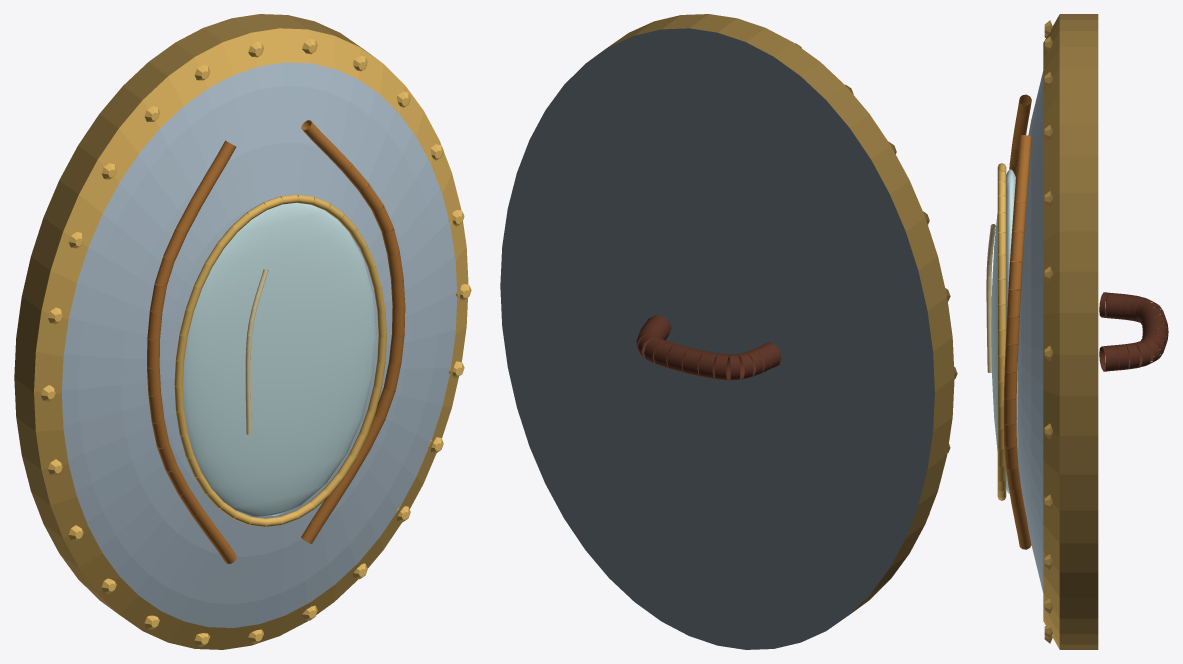
The model's file is Mirror.obj.
3 renders of one model, left to right at view 1: azimuth 30°, elevation 25°; view 2: azimuth 150°, elevation 25°; view 3: azimuth 270°, elevation 25°, orthographic.
Visible parts, largest first — view 1: Mirror; view 2: Mirror; view 3: Mirror.
Part boxes in pixels (x1=…): Mirror: x1=14, y1=14, x2=471, y2=649; Mirror: x1=500, y1=14, x2=957, y2=649; Mirror: x1=986, y1=14, x2=1168, y2=649.
Size of the model in its own units: 23 by 31 by 8.5.
